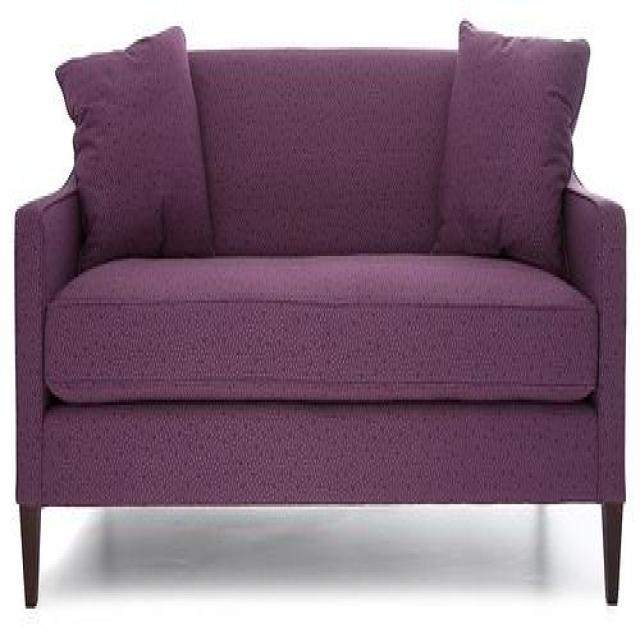sofa: (13, 24, 627, 608)
